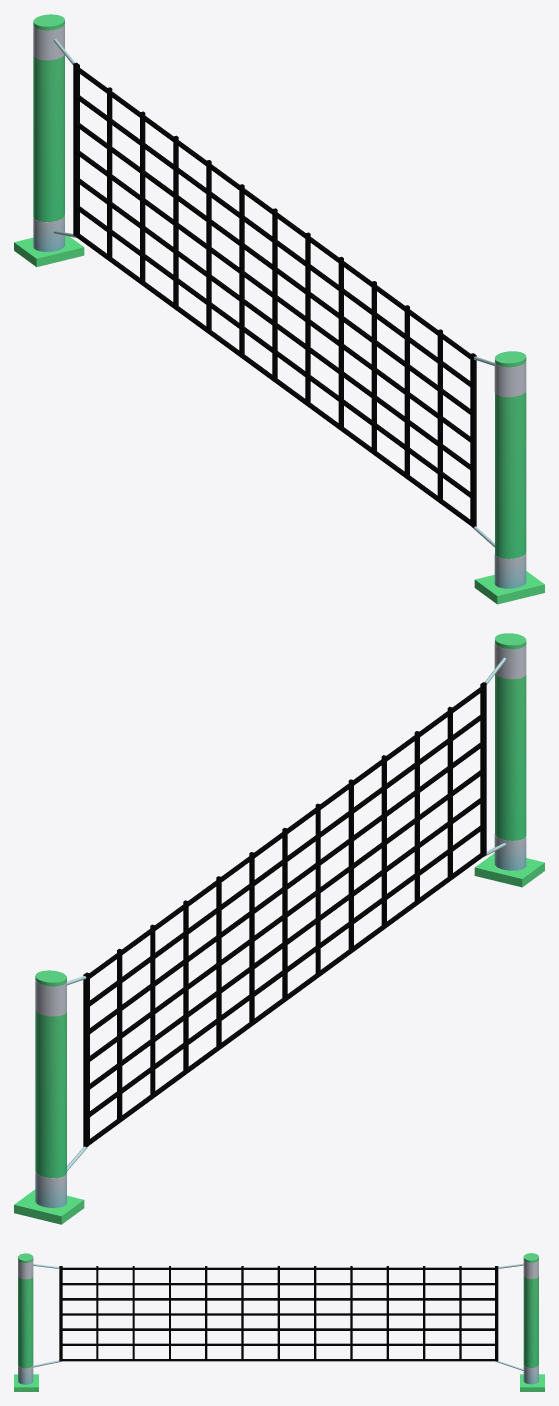
3 renders of one model, top to bottom at view 1: azimuth 30°, elevation 25°; view 2: azimuth 150°, elevation 25°; view 3: azimuth 270°, elevation 25°, orthographic. The views are drawn at different scales.
Parts seen in each view (by area): view 1: horizontal, upright, upright.001, foot, foot.001, upper_sleeve, lower_sleeve, lower_sleeve.001, upper_sleeve.001; view 2: horizontal, upright.001, upright, foot.001, foot, upper_sleeve.001, lower_sleeve.001, lower_sleeve, upper_sleeve; view 3: horizontal, upright.001, upright, foot.001, foot, lower_sleeve, upper_sleeve, upper_sleeve.001, lower_sleeve.001.
Part boxes in pixels (x1,y1,x2,y2): horizontal: (73,62,476,527); upright: (495,351,526,558); upright.001: (33,14,64,221); foot: (474,571,544,604); foot.001: (14,236,84,267); upper_sleeve: (494,361,526,397); lower_sleeve: (494,553,526,588); lower_sleeve.001: (33,215,64,251); upper_sleeve.001: (33,24,64,60); horizontal: (83,682,486,1147); upright.001: (35,970,66,1177); upright: (495,633,526,840); foot.001: (14,1189,84,1224); foot: (474,853,544,887); upper_sleeve.001: (35,980,66,1016); lower_sleeve.001: (35,1171,66,1207); lower_sleeve: (494,833,526,870); upper_sleeve: (494,642,526,679); horizontal: (59,1266,498,1361); upright.001: (523,1253,538,1367); upright: (18,1253,33,1368); foot.001: (520,1374,544,1391); foot: (14,1374,38,1391); lower_sleeve: (18,1365,33,1384); upper_sleeve: (18,1260,33,1279); upper_sleeve.001: (523,1260,538,1279); lower_sleeve.001: (523,1365,538,1384).
Bounding box in the file's own units: 0.1421 × 0.6665 × 2.5.
